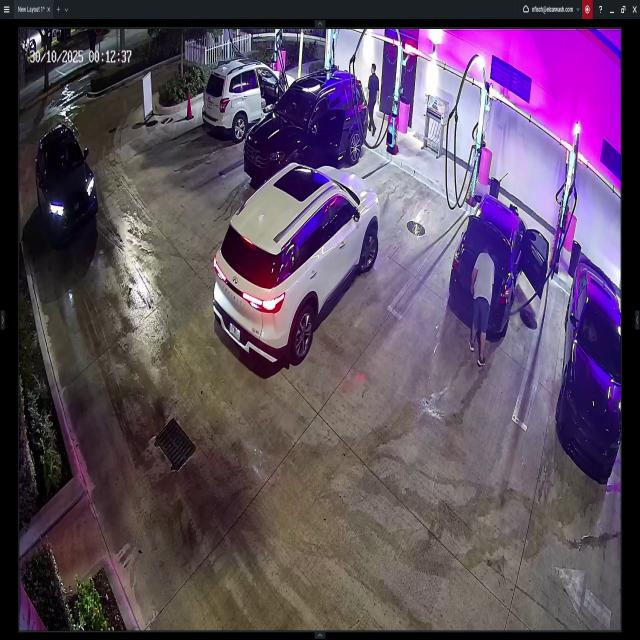Car: (212, 164, 380, 365), (247, 69, 366, 190), (557, 254, 620, 477), (452, 190, 547, 335), (33, 116, 98, 249), (203, 52, 295, 144)
